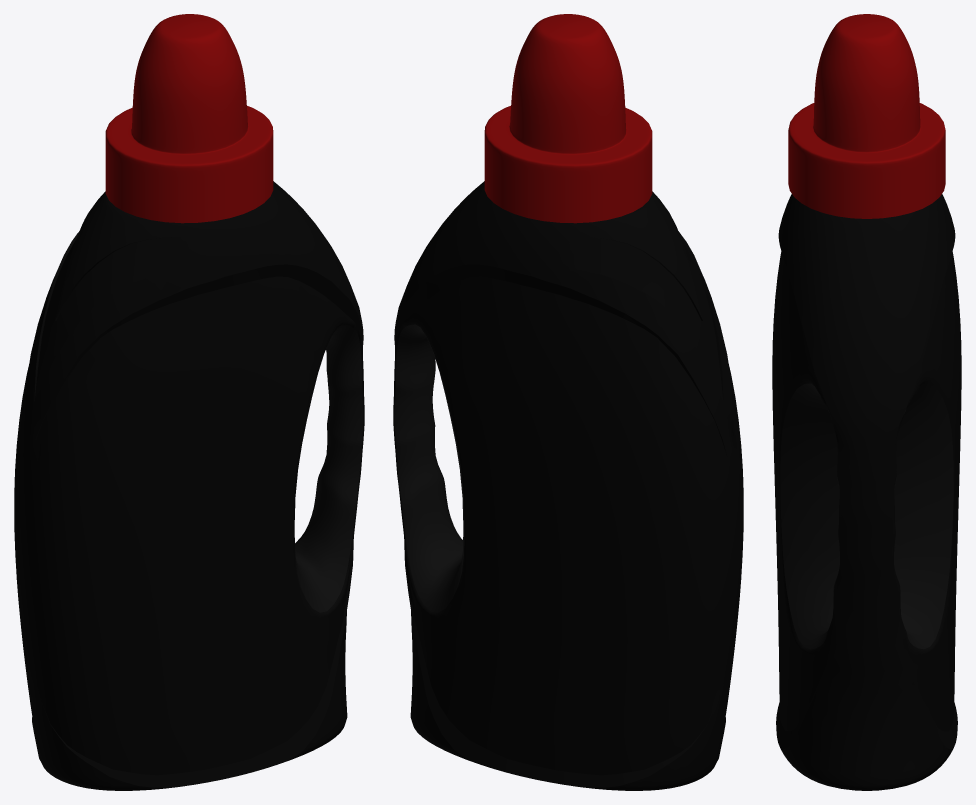
The model's file is uploads_files_2027416_Perwoll.FBX.
3 views of the same model, side by side, from view 1: azimuth 30°, elevation 25°; view 2: azimuth 150°, elevation 25°; view 3: azimuth 270°, elevation 25° (orthographic). The views are drawn at different scales.
Parts seen in each view (by area): view 1: Object002; view 2: Object002; view 3: Object002.
Boxes of the visible parts, box(x1,y1,x2,y2) form: Object002: box(14, 14, 364, 790); Object002: box(393, 14, 743, 790); Object002: box(772, 14, 961, 790).
Bounding box in the file's own units: 55.84 × 115 × 28.28.
